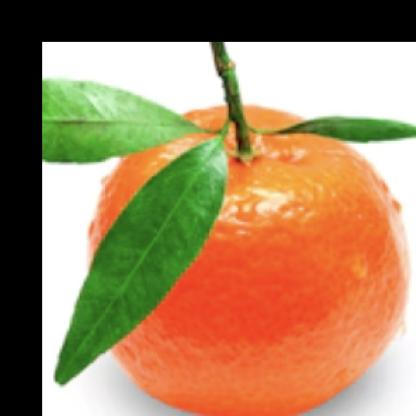fresh: (95, 96, 409, 416)
